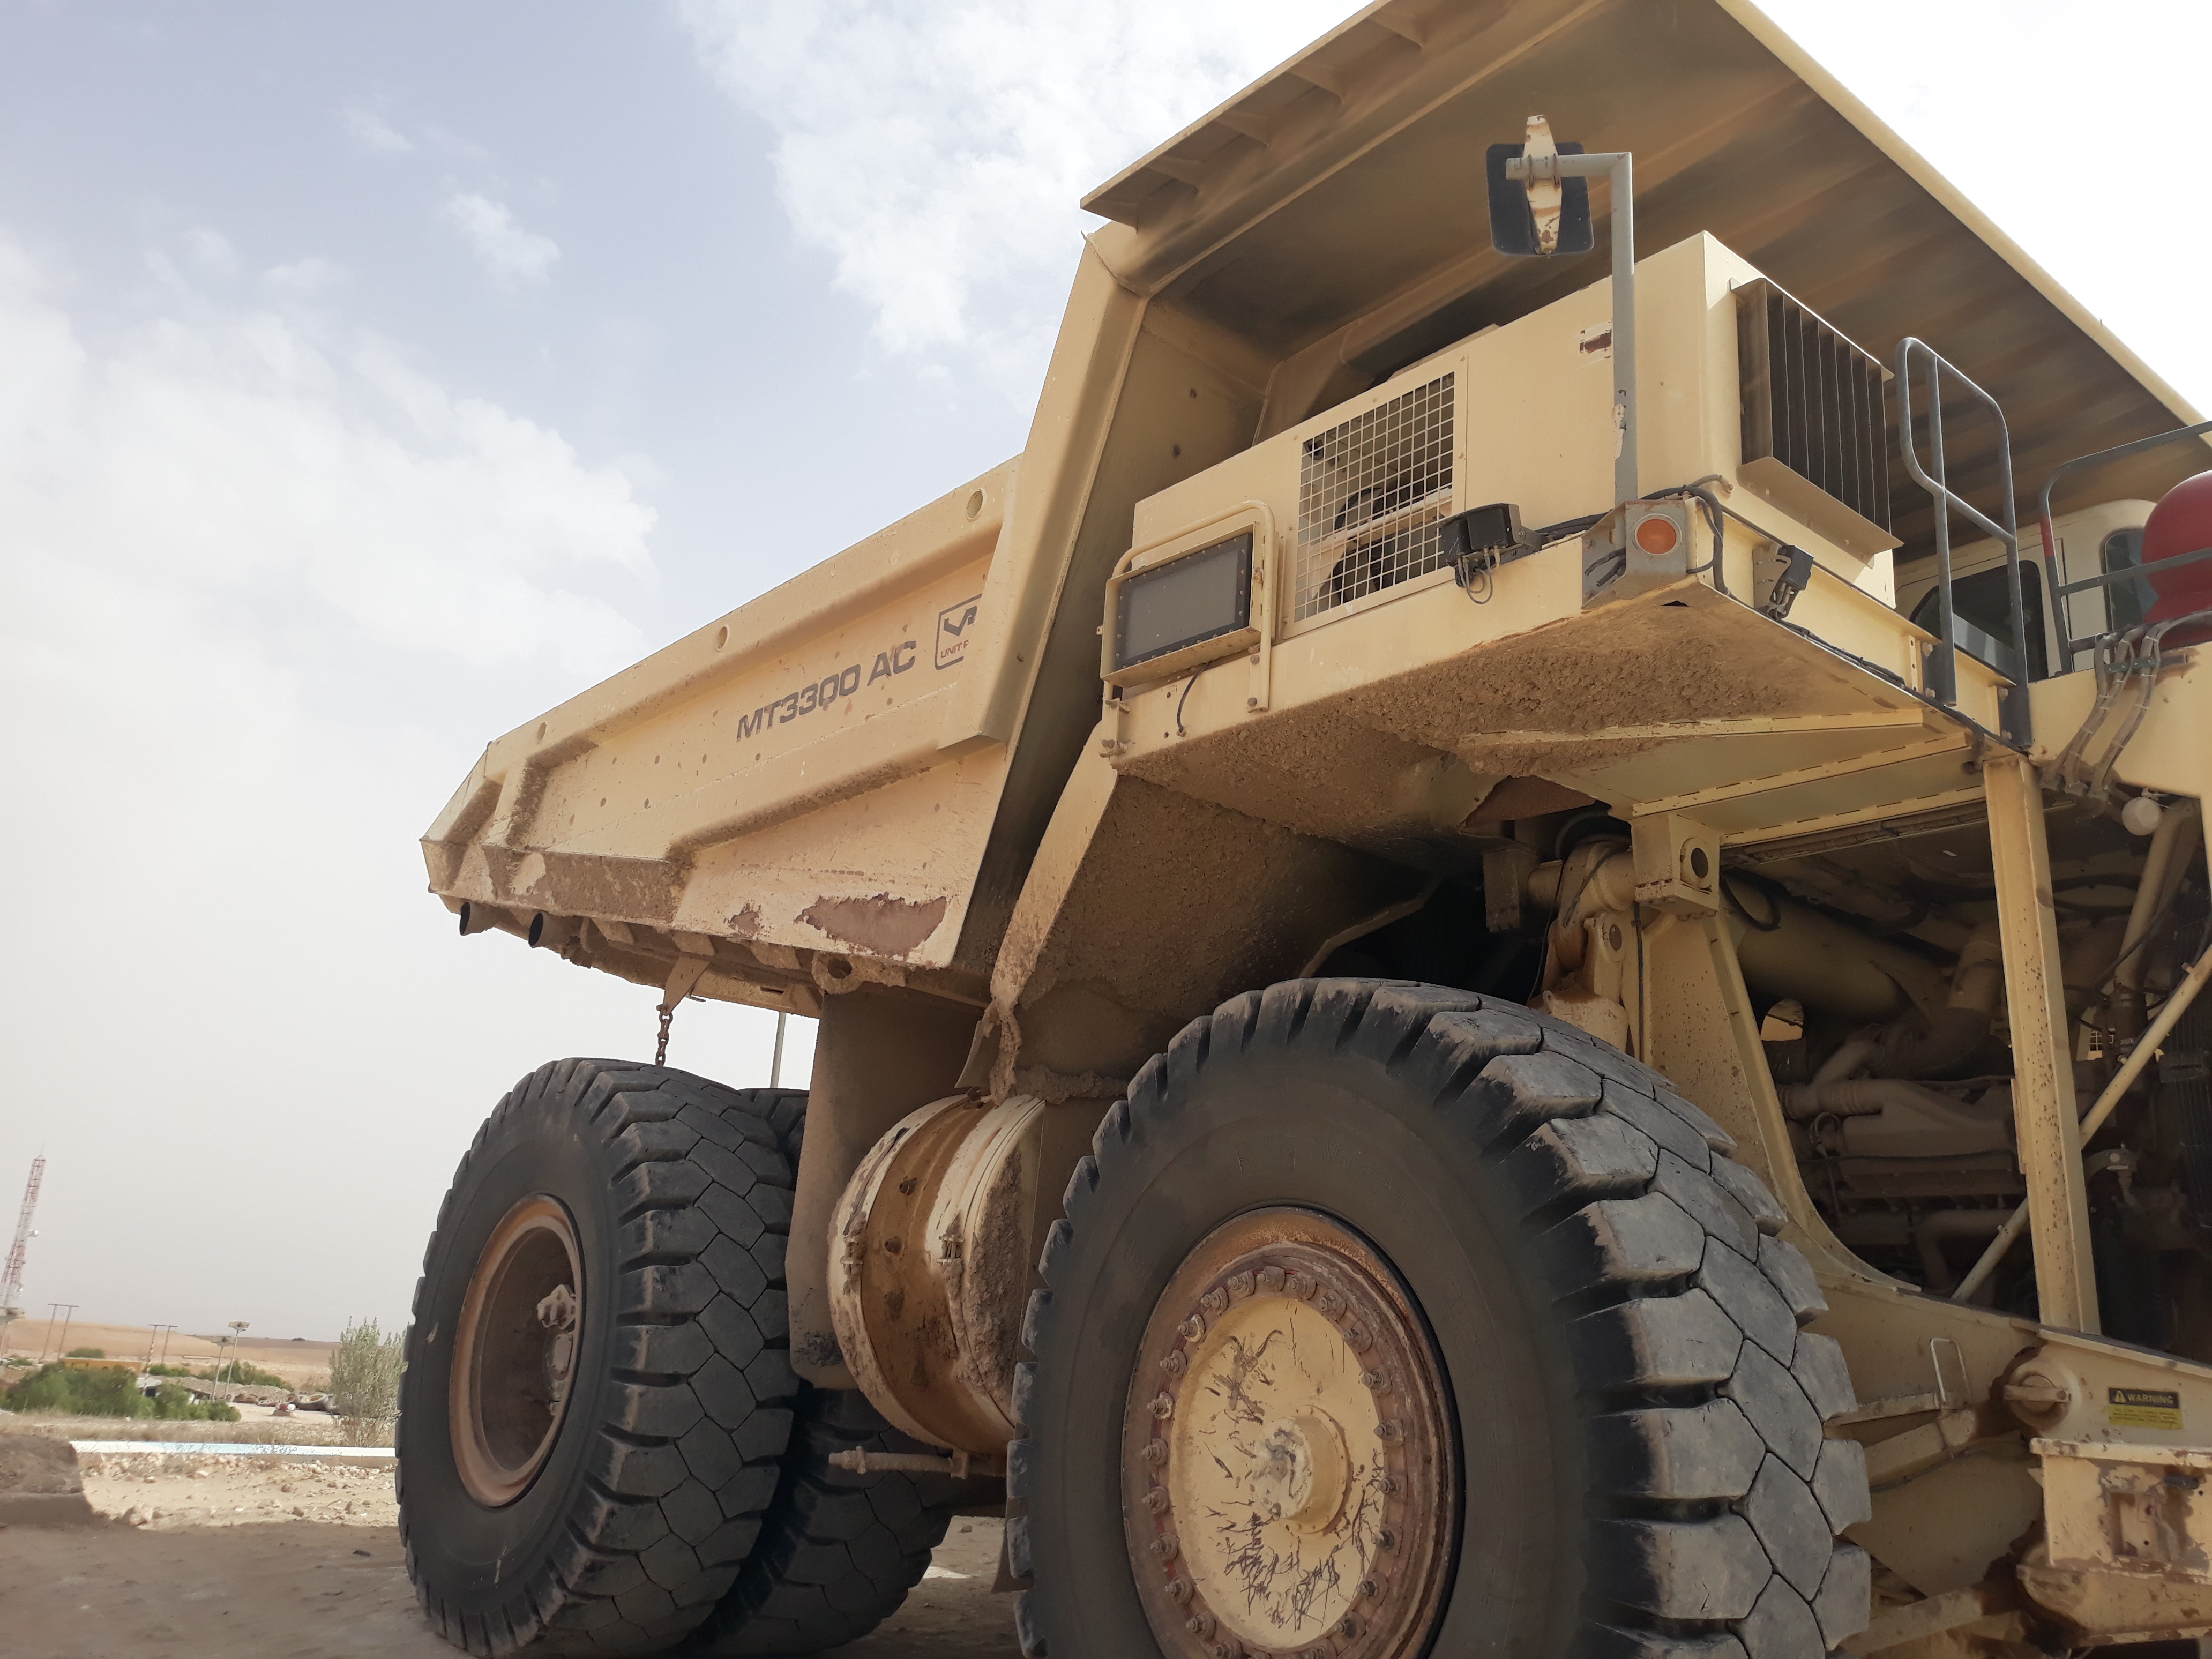camion: (395, 16, 2212, 1656)
